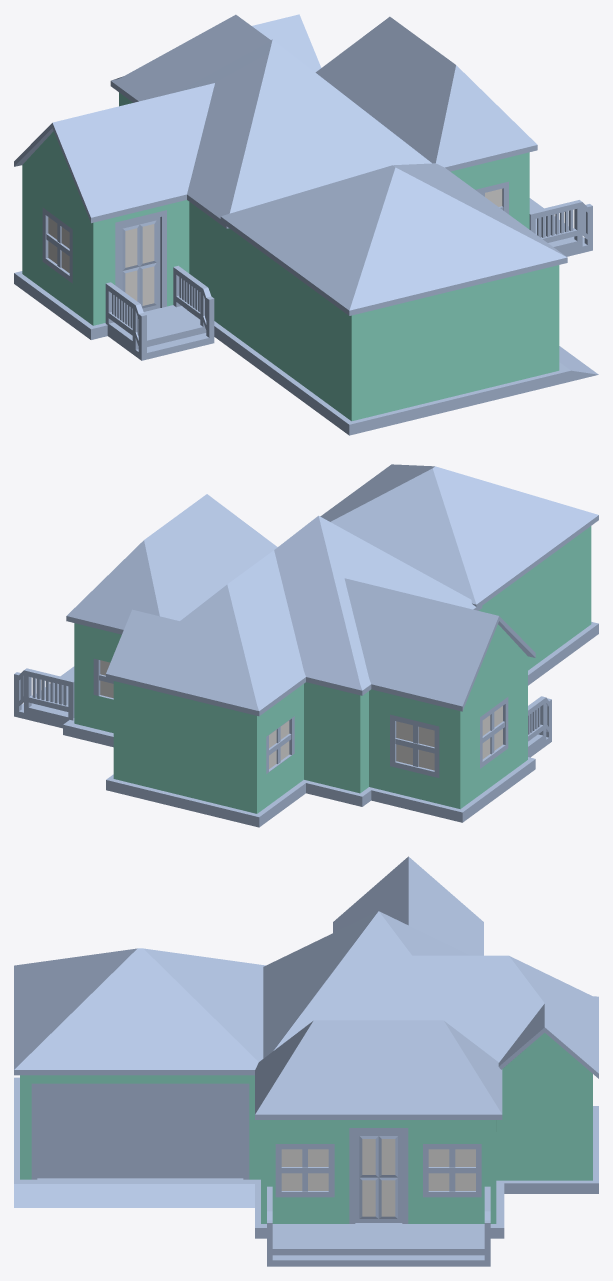
Rendered from House #22.fbx.
3 renders of one model, top to bottom at view 1: azimuth 30°, elevation 25°; view 2: azimuth 150°, elevation 25°; view 3: azimuth 270°, elevation 25°, orthographic. The views are drawn at different scales.
Visible parts, largest first — view 1: building_001; view 2: building_001; view 3: building_001.
Part boxes in pixels (x1,y1,x2,y2): building_001: (14, 14, 598, 435); building_001: (14, 464, 598, 827); building_001: (14, 856, 598, 1266).
Bounding box in the file's own units: 902 × 430 × 994.
